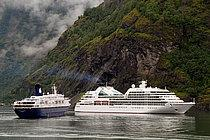Ship: (71, 78, 200, 118), (14, 82, 75, 124)
